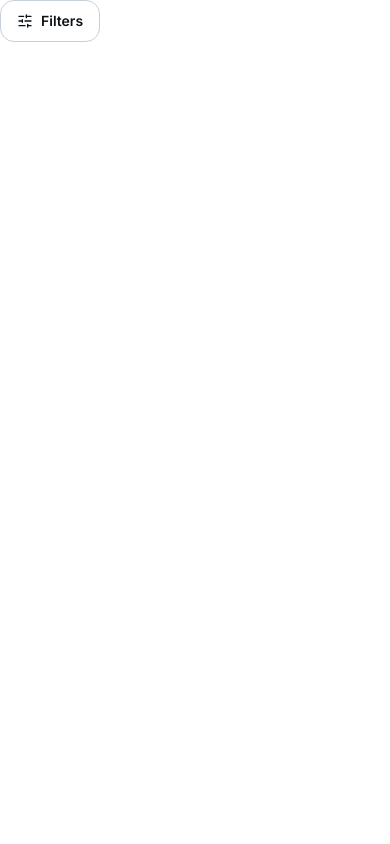
Test: MobileFilterDrawer › opens the shared filter panel from the trigger
What coordinates should you click on to do the following:
click the button "Filters"
I would click on:
 (50, 21)
Its box is top-left (0, 0), bottom-right (100, 42).
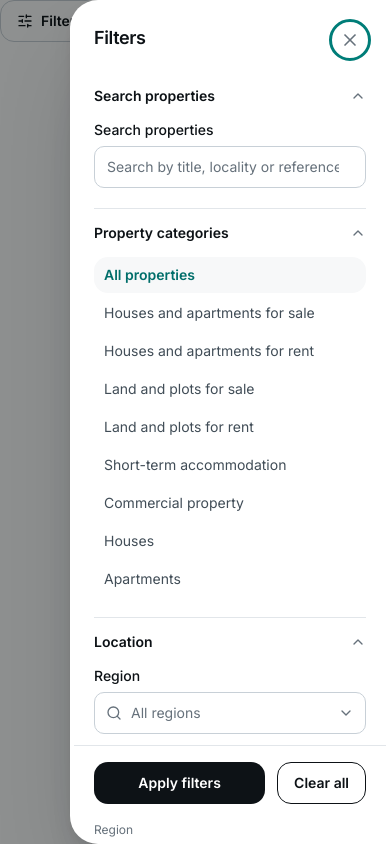
expect the dialog is shown: met
